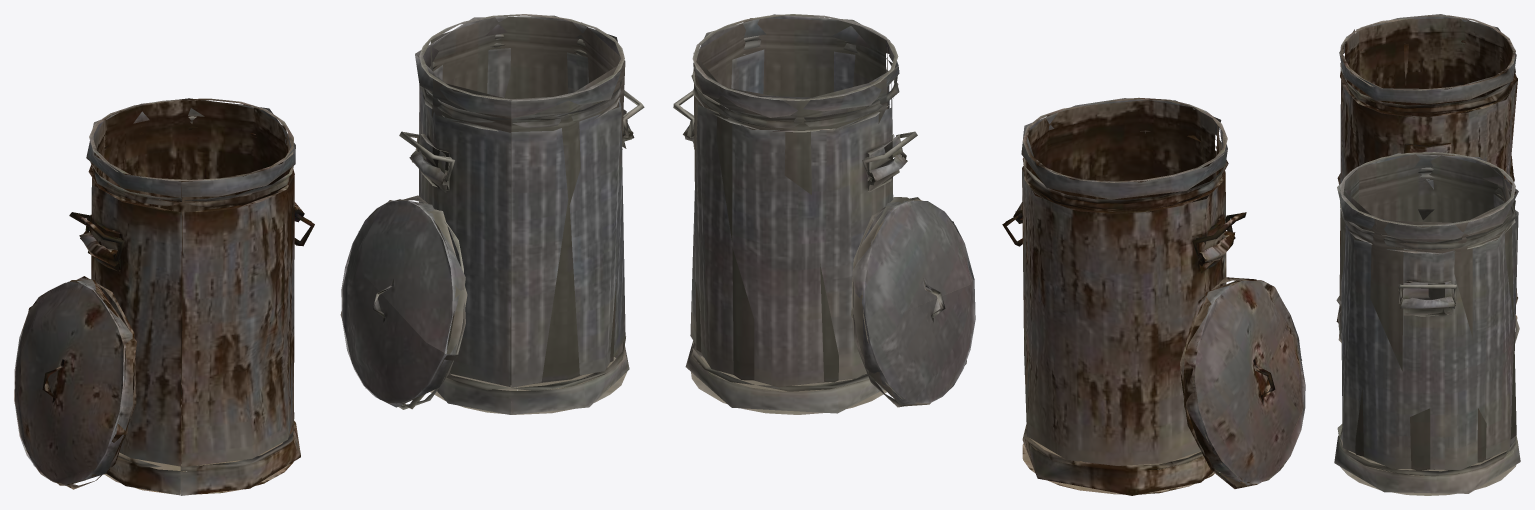
Rendered from metal_trash_can.glb.
3 renders of one model, left to right at view 1: azimuth 30°, elevation 25°; view 2: azimuth 150°, elevation 25°; view 3: azimuth 270°, elevation 25°, orthographic. The views are drawn at different scales.
Parts seen in each view (by area): view 1: metal_trash_can, metal_trash_can_rust, metal_trash_can_lid, metal_trash_can_rust_lid; view 2: metal_trash_can, metal_trash_can_rust, metal_trash_can_lid, metal_trash_can_rust_lid; view 3: metal_trash_can, metal_trash_can_rust, metal_trash_can_handle_right.
Part boxes in pixels (x1=…): metal_trash_can: x1=409, y1=14, x2=634, y2=414; metal_trash_can_rust: x1=79, y1=98, x2=304, y2=495; metal_trash_can_lid: x1=340, y1=195, x2=467, y2=409; metal_trash_can_rust_lid: x1=14, y1=276, x2=136, y2=489; metal_trash_can: x1=683, y1=14, x2=907, y2=414; metal_trash_can_rust: x1=1013, y1=97, x2=1235, y2=495; metal_trash_can_lid: x1=851, y1=197, x2=975, y2=407; metal_trash_can_rust_lid: x1=1180, y1=277, x2=1305, y2=488; metal_trash_can: x1=1334, y1=151, x2=1520, y2=495; metal_trash_can_rust: x1=1336, y1=14, x2=1517, y2=322; metal_trash_can_handle_right: x1=1398, y1=284, x2=1457, y2=303.
Bounding box in the file's own units: 1.77 × 0.9068 × 0.5703.
3 materials, 3 textured.
